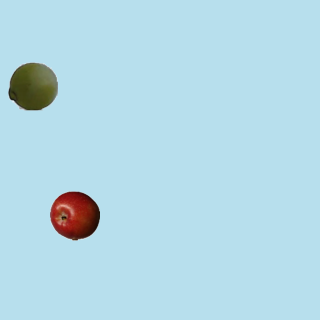Apple Braeburn: (49, 190, 99, 240)
Grape White 4: (7, 60, 57, 110)
